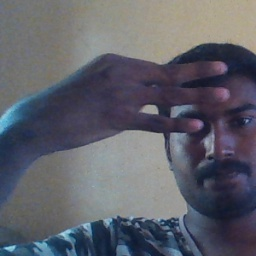K: (50, 52, 231, 135)
